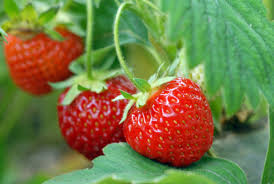ripe: (122, 75, 216, 167), (57, 65, 143, 160), (5, 16, 93, 94)
